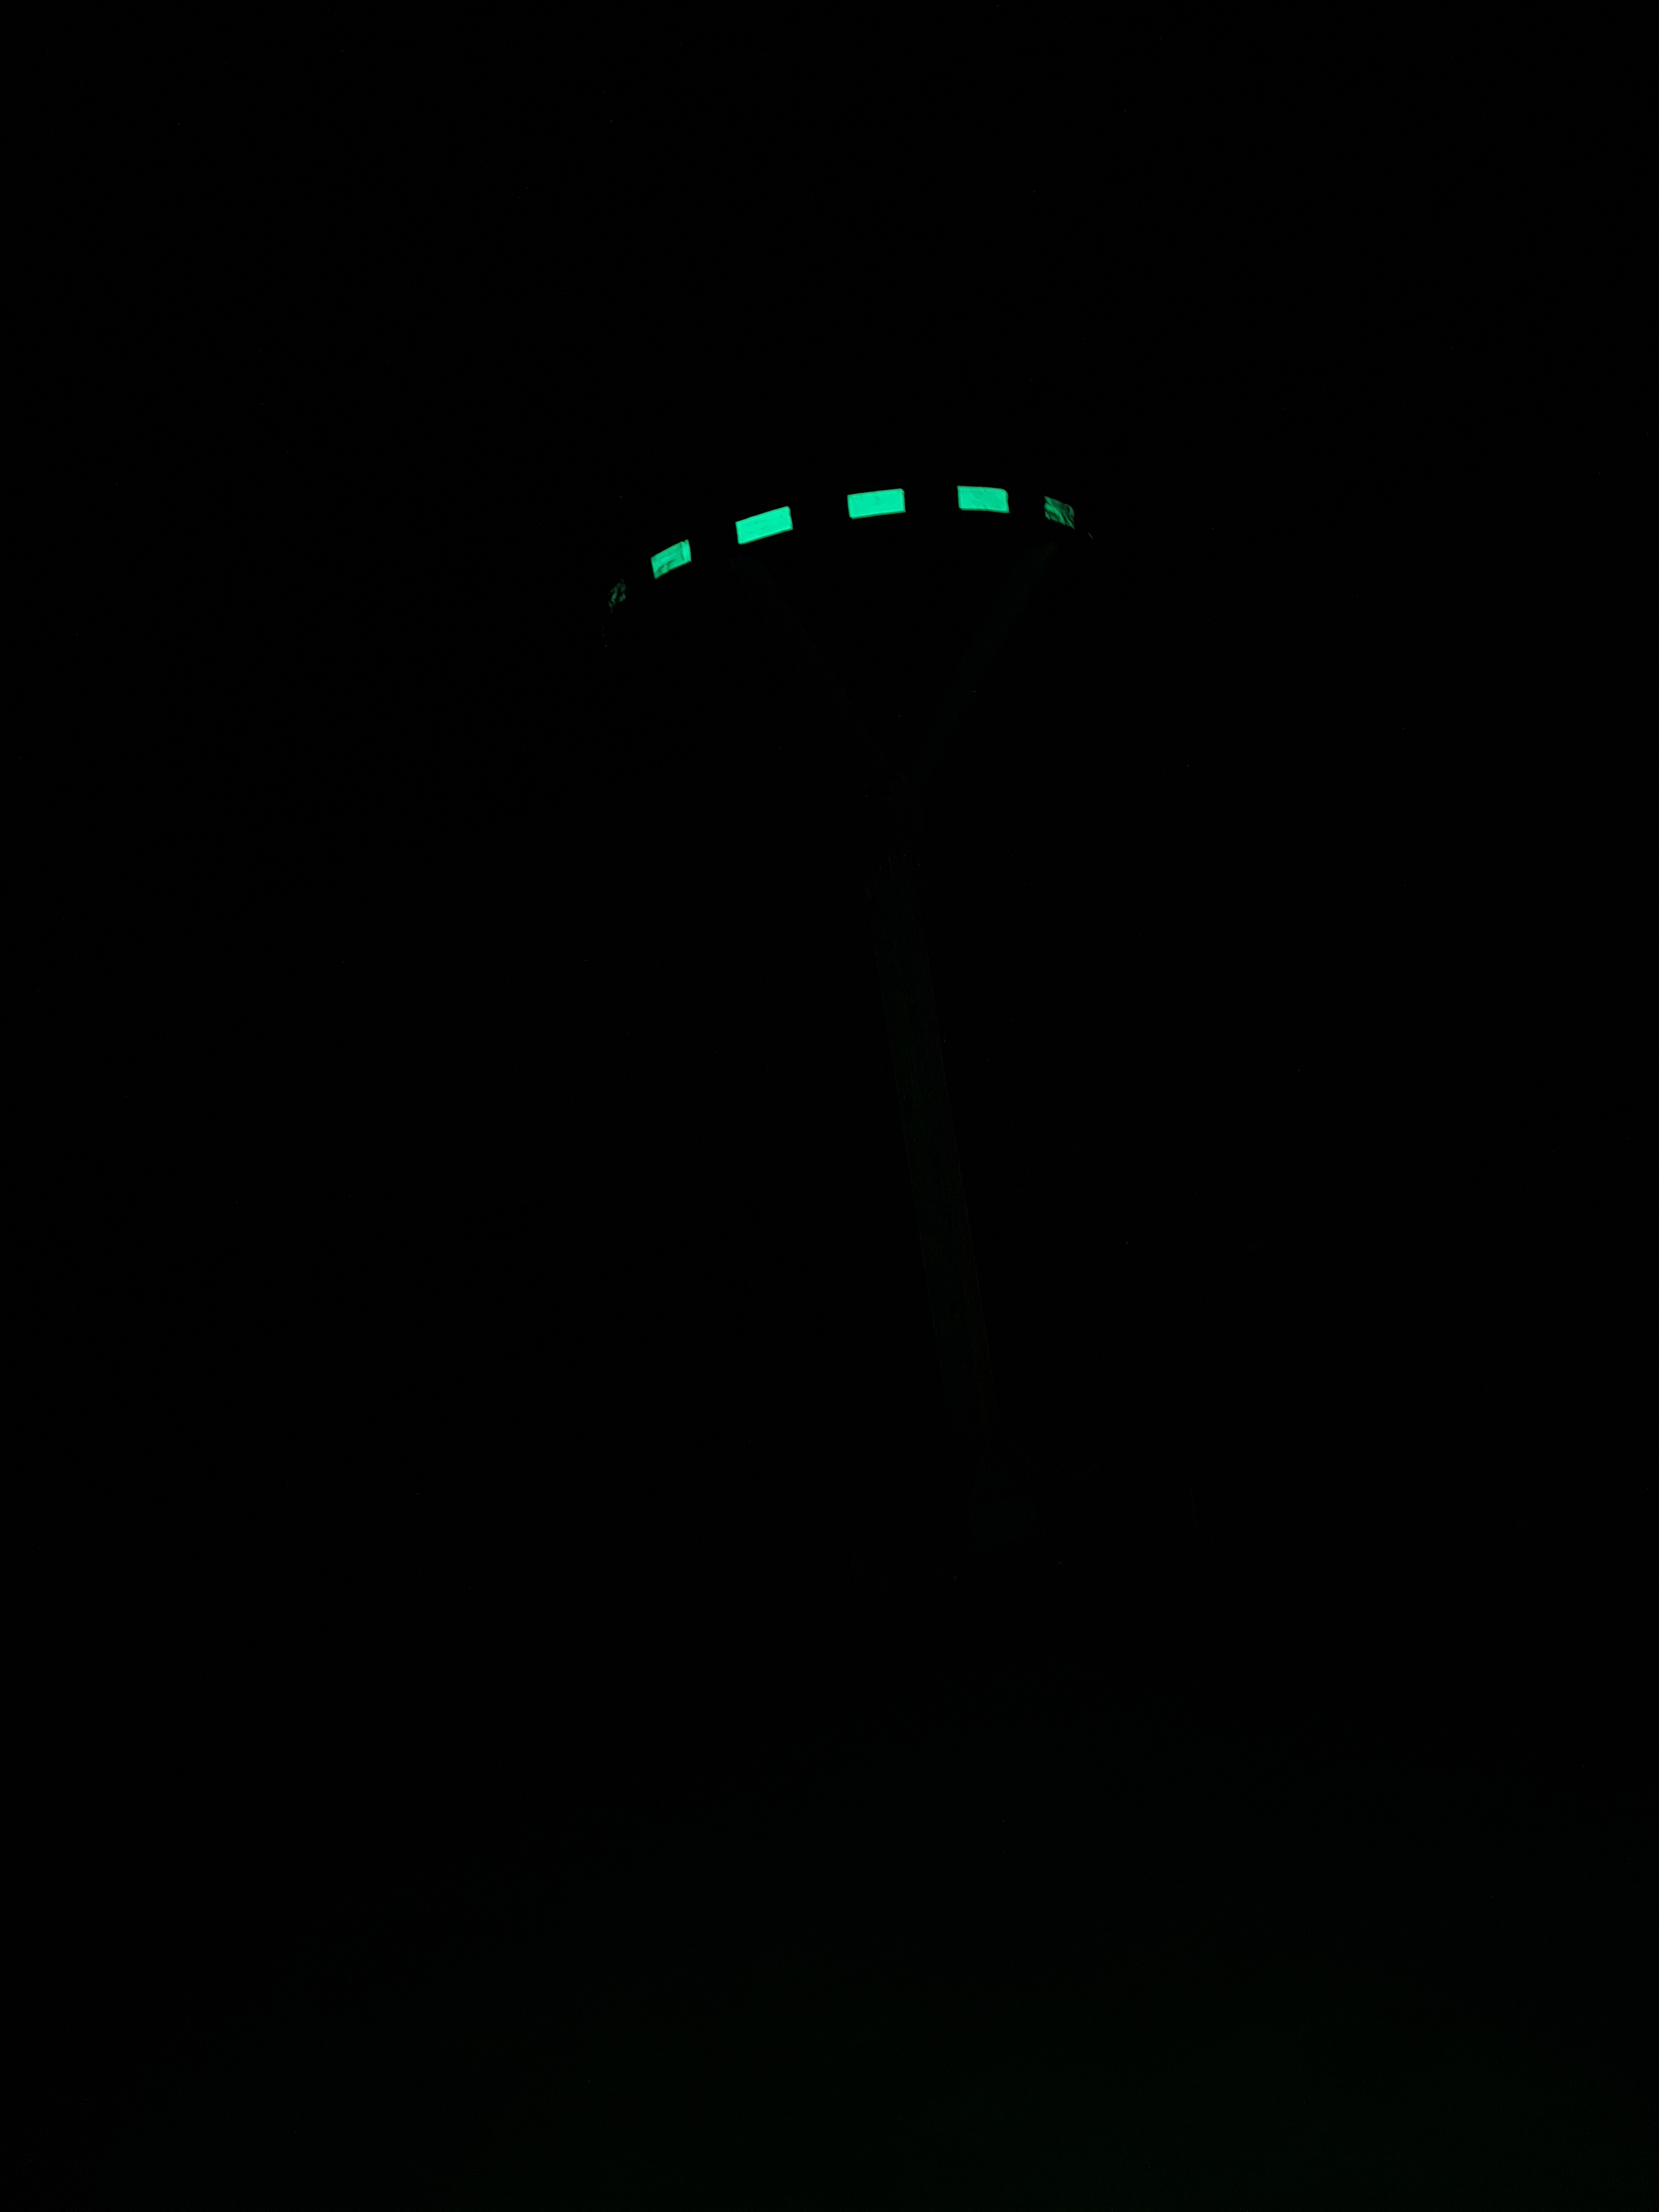hoop: (603, 484, 1093, 620)
